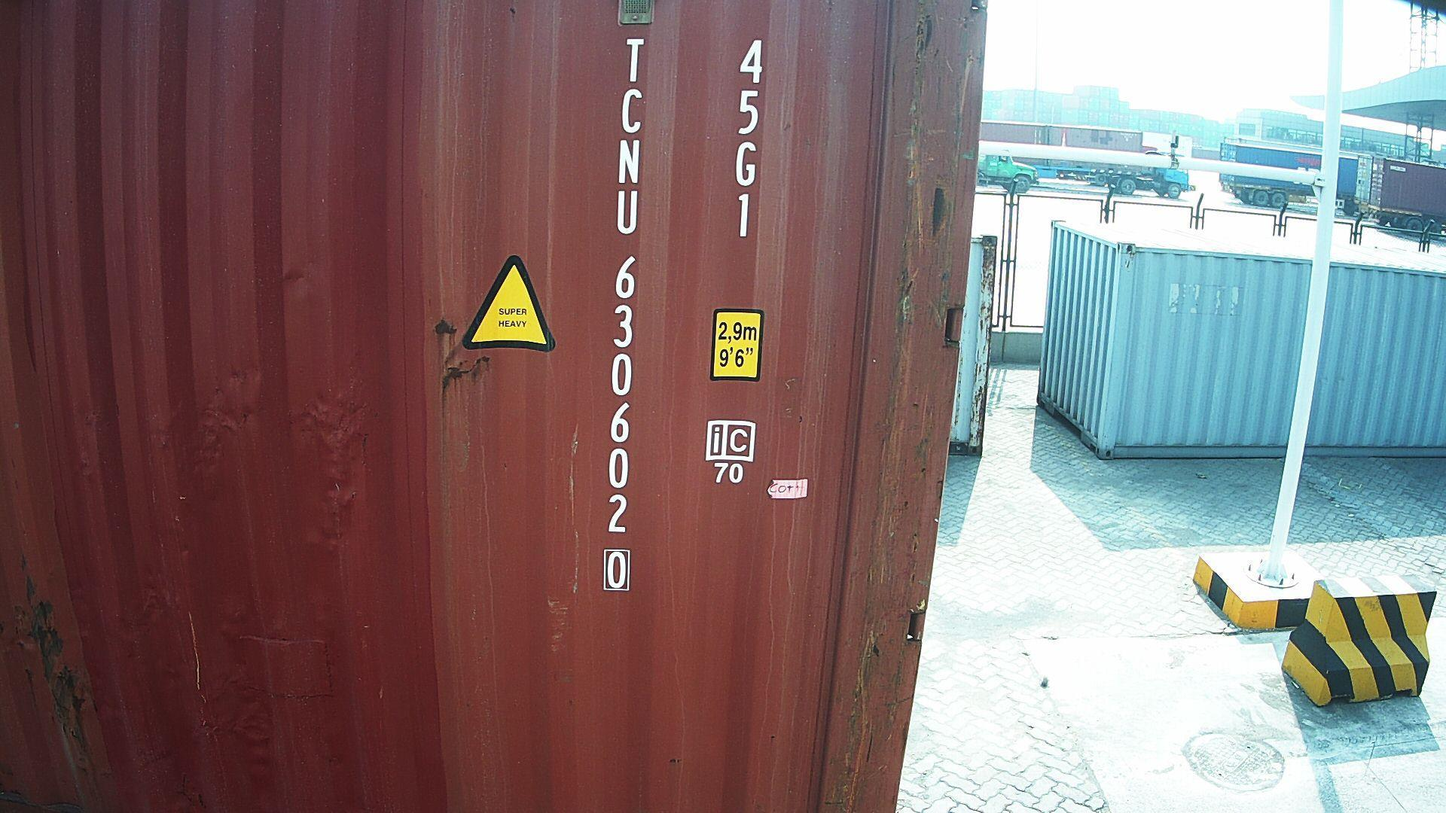container-numbers: (598, 28, 655, 598), (724, 34, 768, 246)
